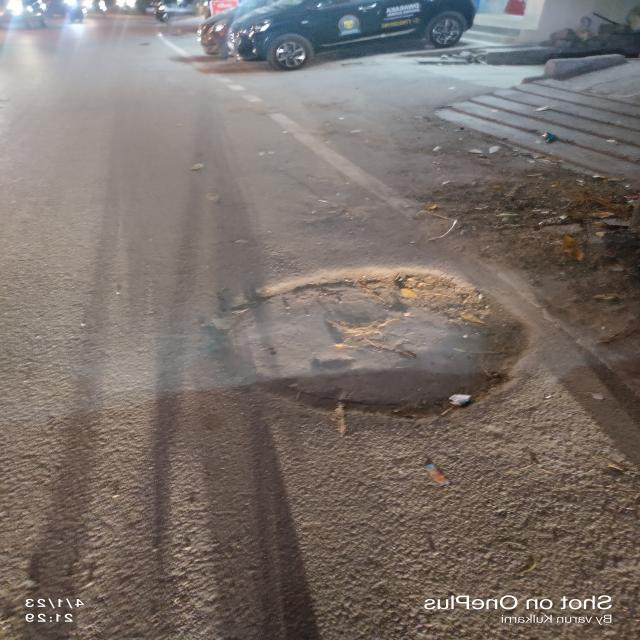potholes: (207, 263, 538, 424)
